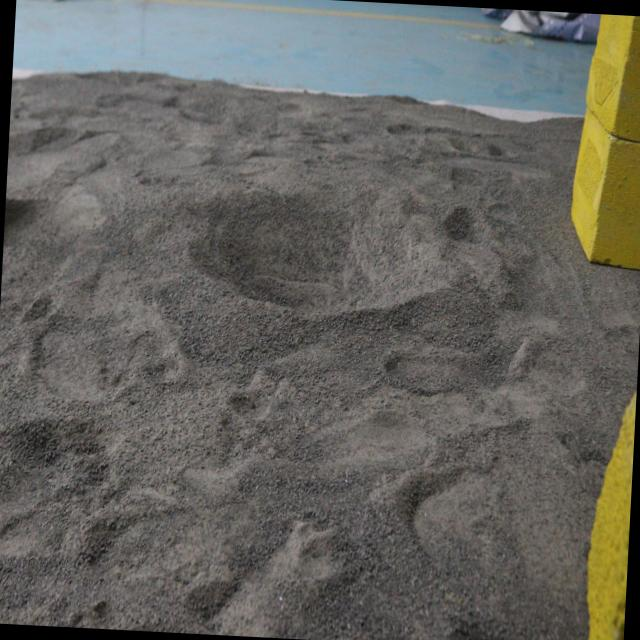crater: (185, 160, 461, 347)
